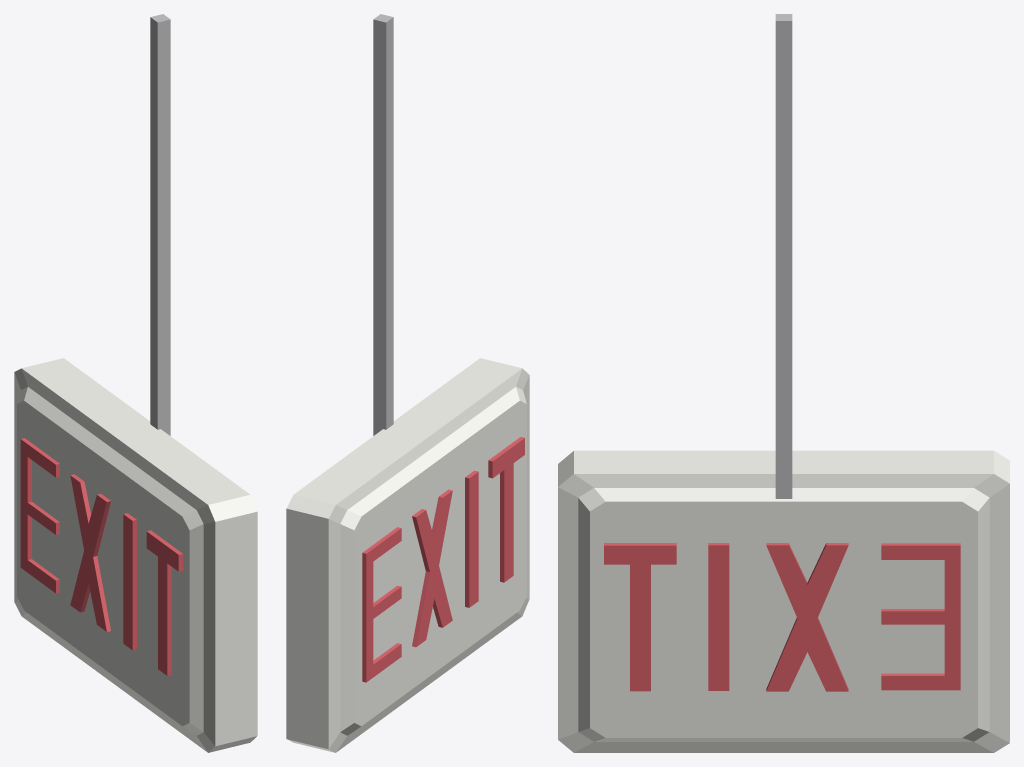
The model's file is Exit Sign.fbx.
3 views of the same model, side by side, from view 1: azimuth 30°, elevation 25°; view 2: azimuth 150°, elevation 25°; view 3: azimuth 270°, elevation 25° (orthographic). The views are drawn at different scales.
Visible parts, largest first — view 1: Exit Sign, Exit Sign Power, X, E, T, I; view 2: Exit Sign, Exit Sign Power, X, E, T, I; view 3: Exit Sign, Exit Sign Power, X, E, T, I.
Part boxes in pixels (left/top/right/bottom): Exit Sign: left=14, top=358, right=257, bottom=752; Exit Sign Power: left=150, top=14, right=170, bottom=435; X: left=70, top=474, right=110, bottom=631; E: left=20, top=438, right=59, bottom=593; T: left=146, top=530, right=183, bottom=675; I: left=123, top=513, right=136, bottom=650; Exit Sign: left=286, top=358, right=529, bottom=752; Exit Sign Power: left=373, top=14, right=393, bottom=435; X: left=412, top=489, right=452, bottom=647; E: left=362, top=527, right=401, bottom=682; T: left=488, top=437, right=524, bottom=582; I: left=465, top=470, right=478, bottom=607; Exit Sign: left=558, top=450, right=1009, bottom=752; Exit Sign Power: left=775, top=14, right=792, bottom=498; X: left=766, top=543, right=848, bottom=691; E: left=881, top=543, right=960, bottom=690; T: left=604, top=543, right=676, bottom=691; I: left=708, top=543, right=729, bottom=690.
Size of the model in its own units: 0.1966 by 1.66 by 0.9214.
Materials: 3 (1 with a texture image).
